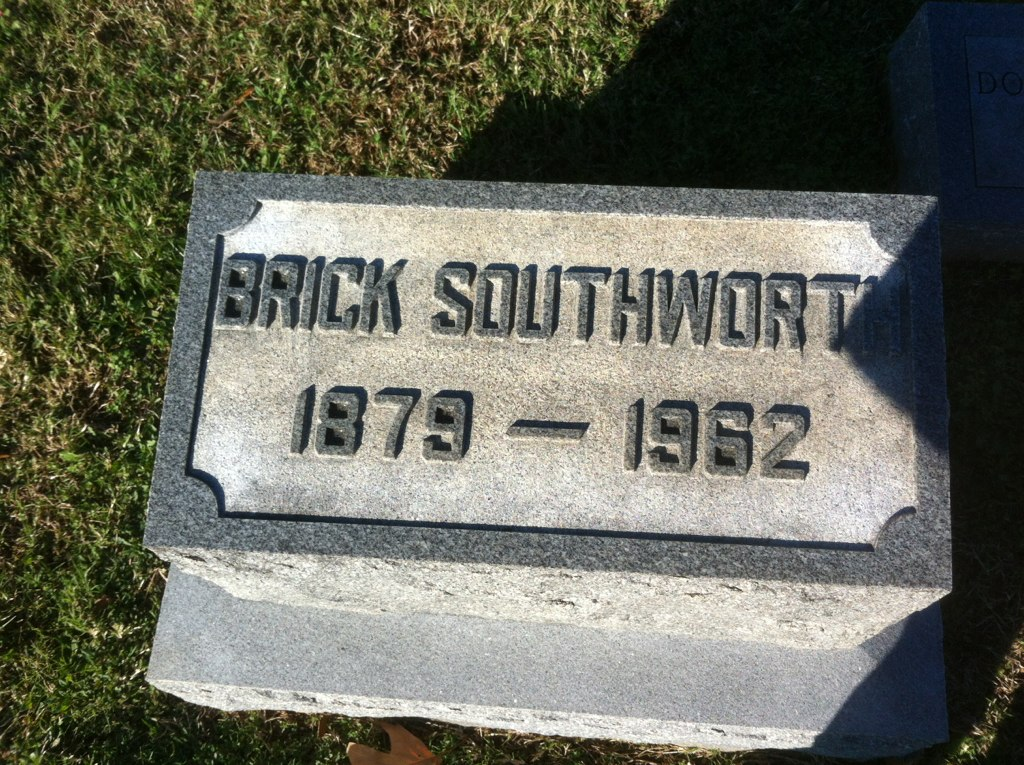flat: (140, 164, 951, 629)
